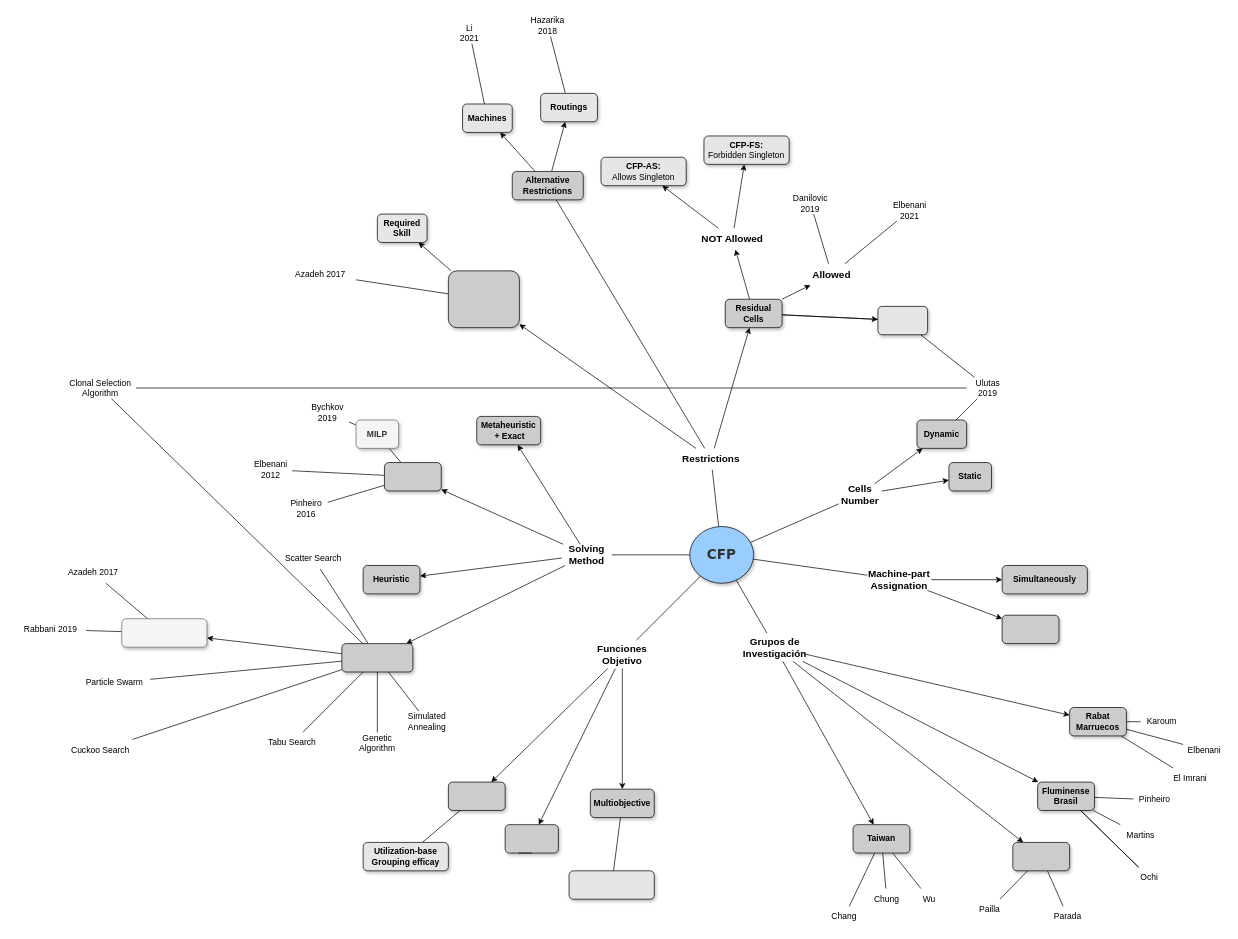
The diagram is 1238 pixels wide and 939 high, and some of its shapes have lost their labels. Each missing label, with the centre of its shape:
Cell occupation: the point at 612,885
Exact: the point at 413,477
Grouping Efficacy: the point at 477,797
Grouping Efficiency: the point at 532,839
Human Resources Operator Assignment Problem: the point at 484,300
Metaheuristic: the point at 377,658
Non-dominated Sorted GA: the point at 164,633
Penalties: the point at 903,321
Santiago Chile: the point at 1041,857
Separateky: the point at 1031,630
